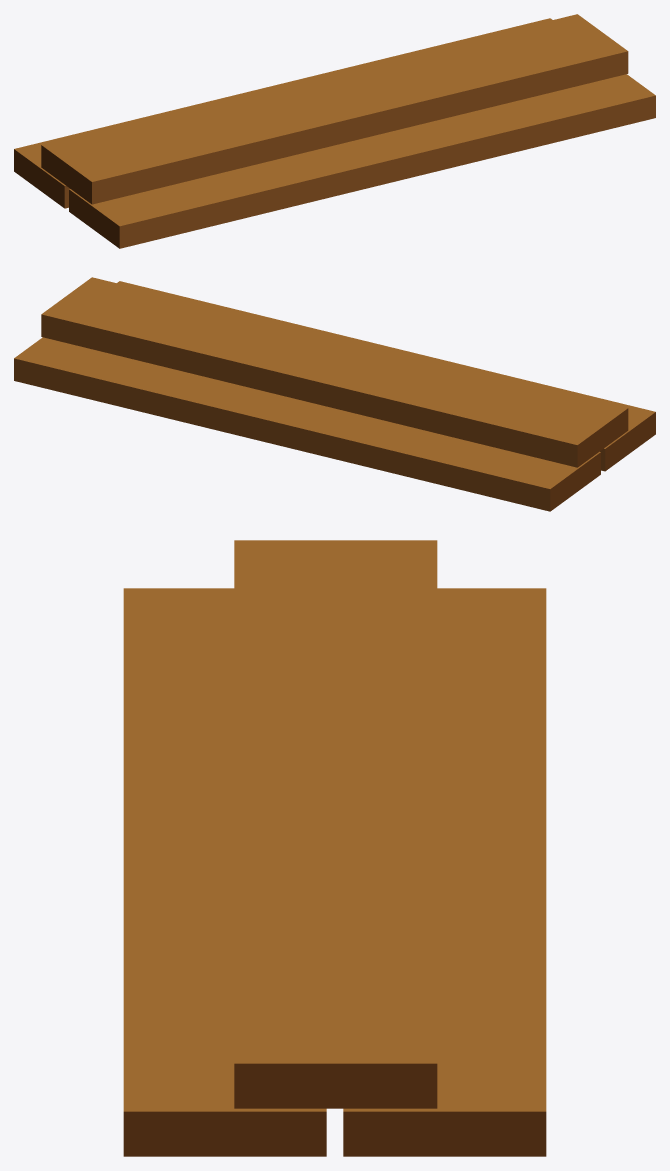
File: Tabuas.fbx
The picture shows the model from 3 angles, top to bottom: view 1: azimuth 30°, elevation 25°; view 2: azimuth 150°, elevation 25°; view 3: azimuth 270°, elevation 25°; orthographic projection. The views are drawn at different scales.
Parts seen in each view (by area): view 1: Tabuas; view 2: Tabuas; view 3: Tabuas.
Part boxes in pixels (bbox=[...]): Tabuas: bbox=[14, 14, 655, 248]; Tabuas: bbox=[14, 277, 655, 511]; Tabuas: bbox=[123, 540, 546, 1156].
Size of the model in its own units: 4.36 by 1.49 by 0.3617.
